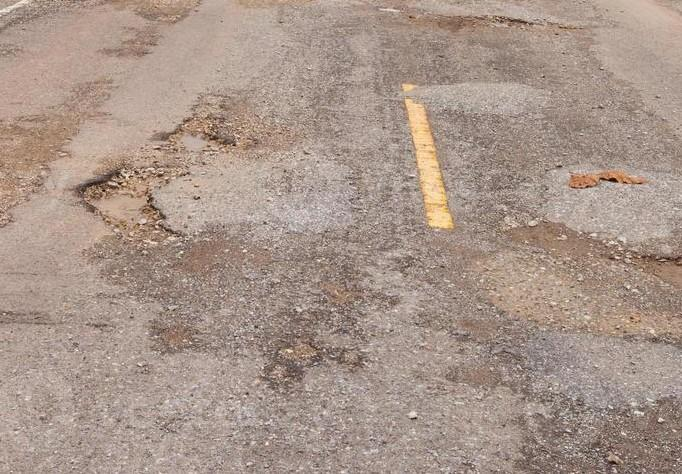pothole: (95, 230, 382, 380), (62, 84, 263, 241), (457, 211, 682, 339)
